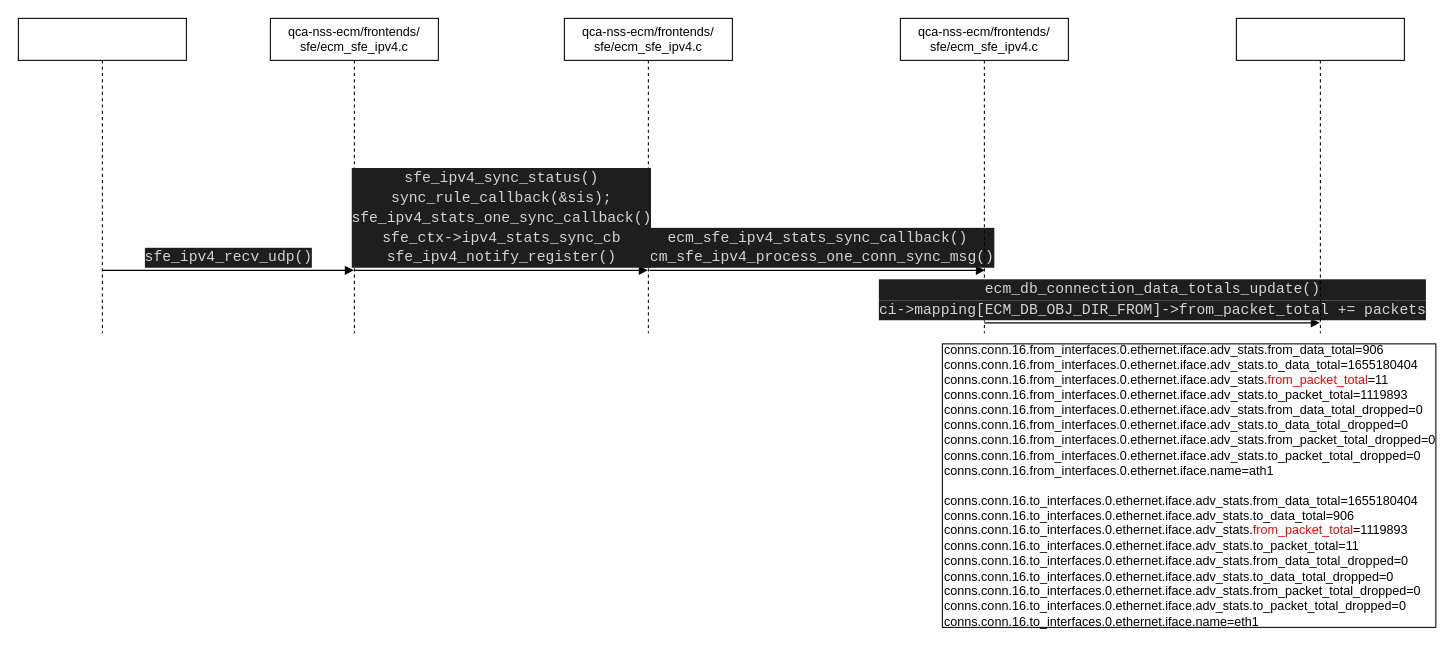
This 1454x647 diagram has some shape labels left out. Each missing label, with the box of its shape:
qca-nss-ecm/ecm_db/ ecm_db_connection.c: (1235, 17, 1404, 333)
qca-nss-sfe/sfe_ipv4_udp.c: (17, 17, 186, 333)
